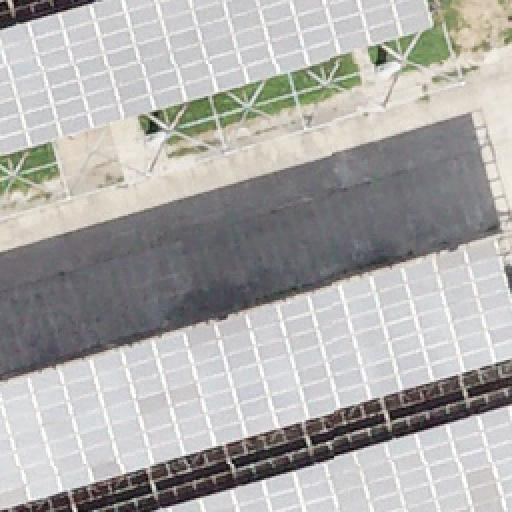solar-panel: (0, 233, 512, 511), (0, 1, 432, 159), (153, 404, 511, 512)
